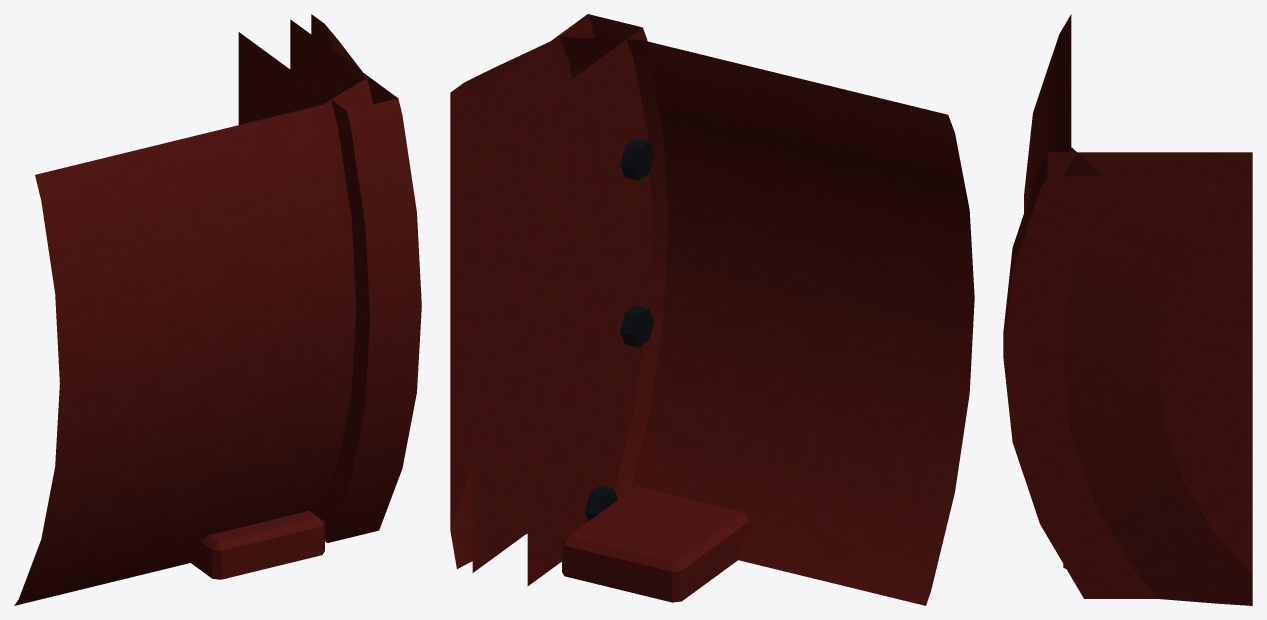
File: cell_42.obj
The picture shows the model from 3 angles, left to right: view 1: azimuth 30°, elevation 25°; view 2: azimuth 150°, elevation 25°; view 3: azimuth 270°, elevation 25°; orthographic projection. The views are drawn at different scales.
Visible parts, largest first — view 1: cell_42; view 2: cell_42; view 3: cell_42.
Part boxes in pixels (x1,y1,x2,y2): cell_42: (14,14,421,605); cell_42: (450,14,974,605); cell_42: (1003,14,1252,605).
Size of the model in its own units: 0.8725 by 1 by 0.5346.
